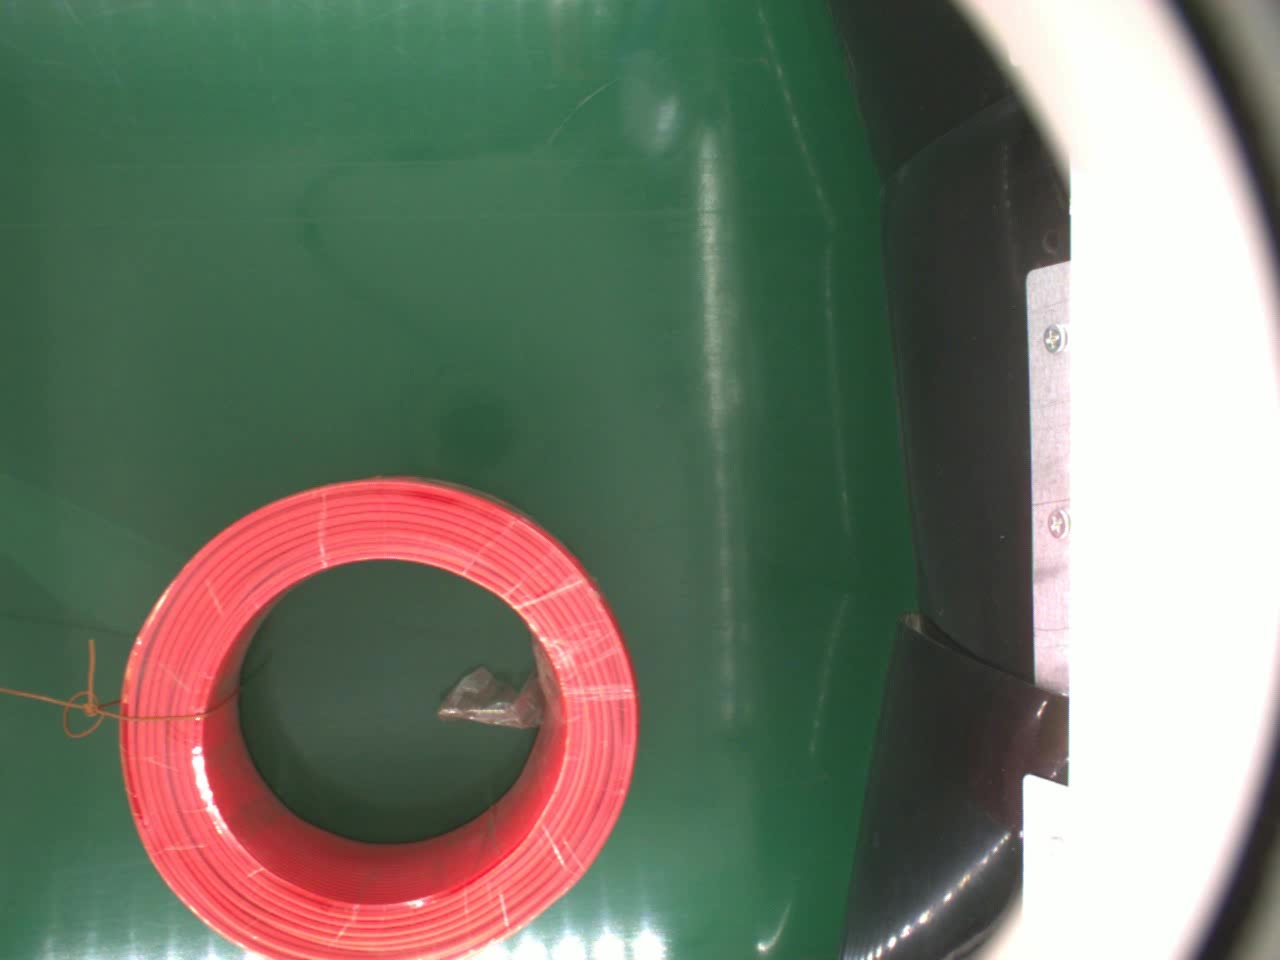red: (107, 473, 650, 960)
